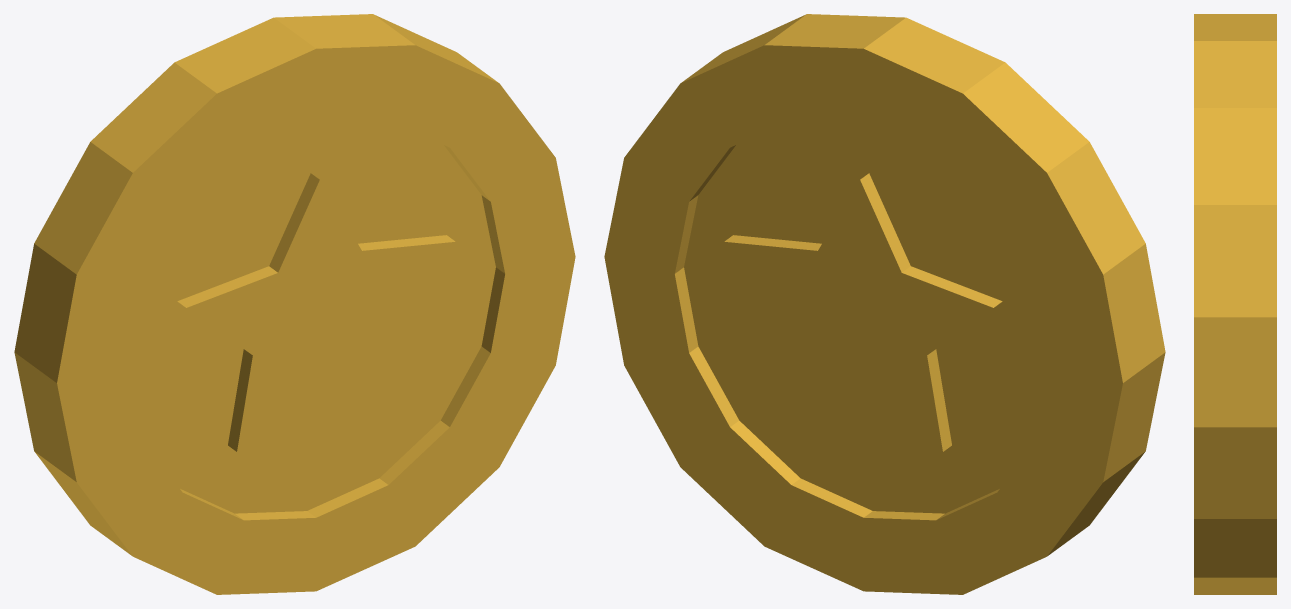
File: Coin.fbx
3 renders of one model, left to right at view 1: azimuth 30°, elevation 25°; view 2: azimuth 150°, elevation 25°; view 3: azimuth 270°, elevation 25°, orthographic. The views are drawn at different scales.
Parts seen in each view (by area): view 1: Cylinder; view 2: Cylinder; view 3: Cylinder.
Boxes of the visible parts, box(x1,y1,x2,y2) form: Cylinder: box(14, 14, 575, 594); Cylinder: box(604, 14, 1165, 594); Cylinder: box(1194, 14, 1276, 594).
Size of the model in its own units: 420 by 420 by 59.79.
